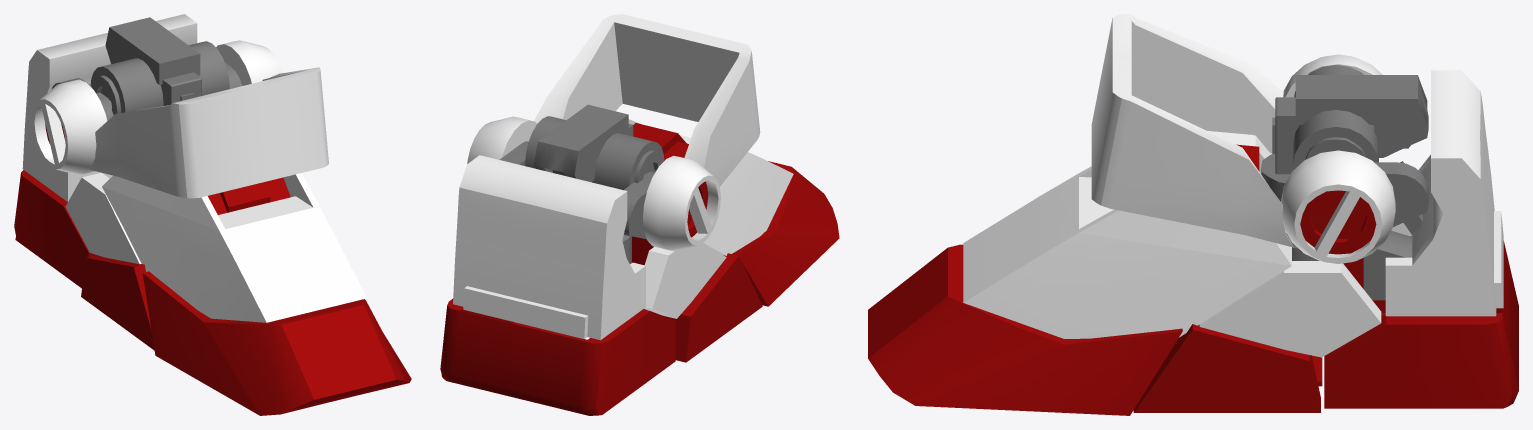
File: leftfoot.obj
3 views of the same model, side by side, from view 1: azimuth 30°, elevation 25°; view 2: azimuth 150°, elevation 25°; view 3: azimuth 270°, elevation 25° (orthographic). The views are drawn at different scales.
Visible parts, largest first — view 1: leftfoot; view 2: leftfoot; view 3: leftfoot.
Boxes of the visible parts, <box> form: leftfoot: <box>14,14,411,415</box>; leftfoot: <box>440,14,839,415</box>; leftfoot: <box>868,14,1518,415</box>.
Size of the model in its own units: 3.97 by 4.35 by 8.42.
